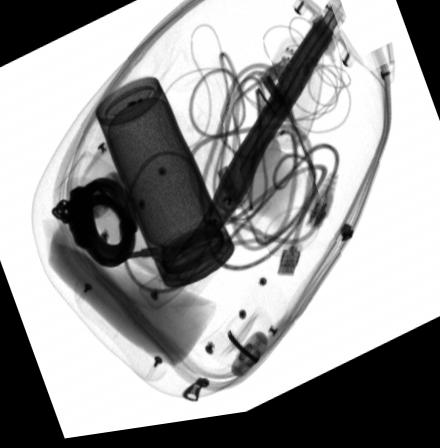HandCuffs: (48, 179, 138, 272)
